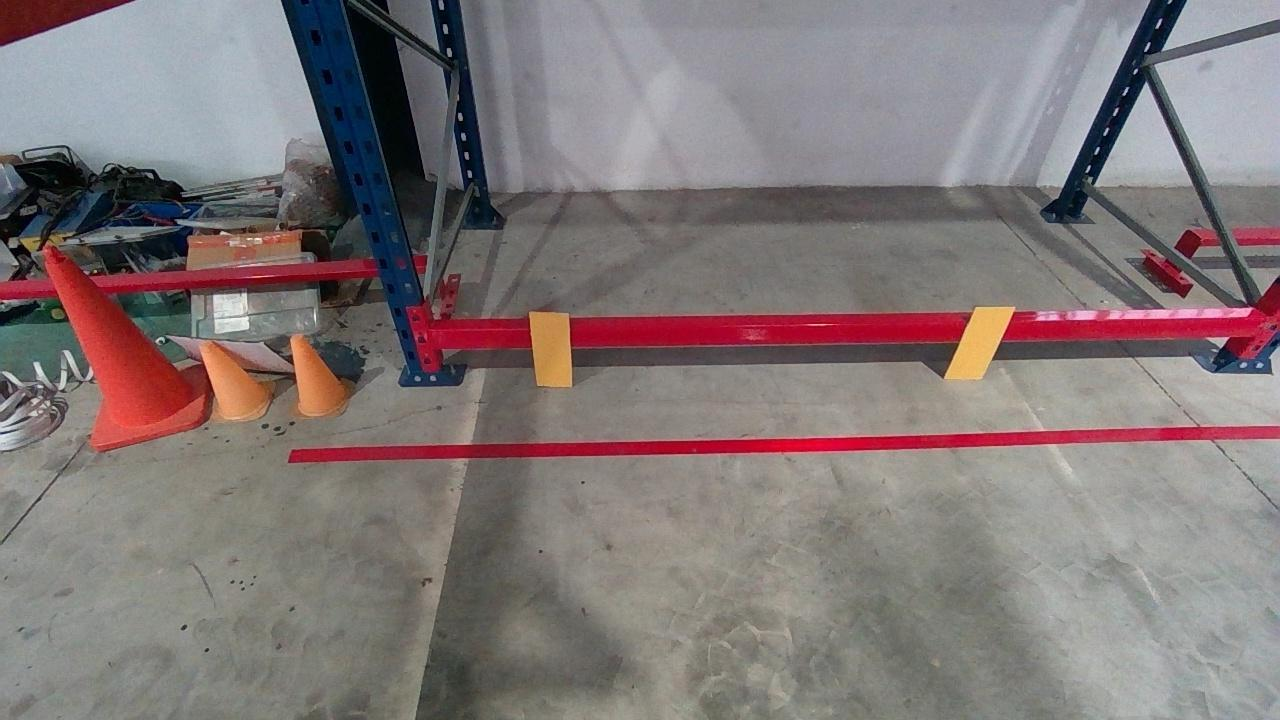h_rack: (435, 318, 1262, 349)
orange_strip: (944, 304, 1019, 379), (527, 311, 574, 385)
red_line: (285, 426, 1276, 460)
